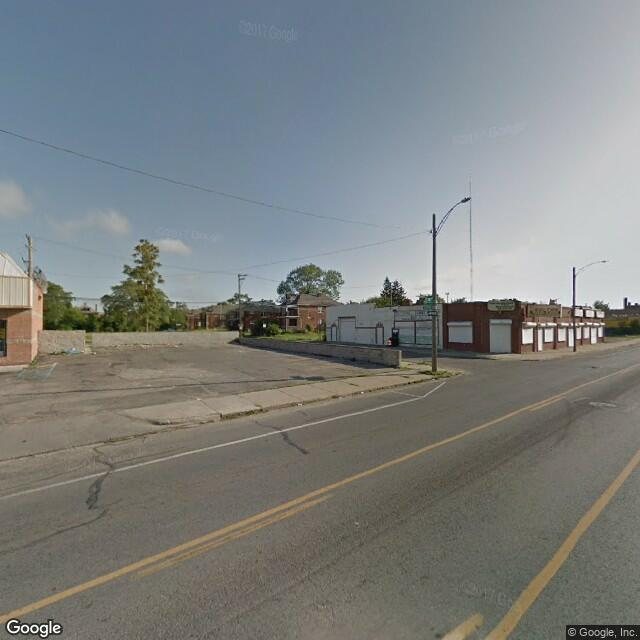litter: (67, 346, 82, 356), (361, 388, 367, 398), (337, 392, 344, 400), (194, 396, 201, 402), (296, 402, 303, 408)
